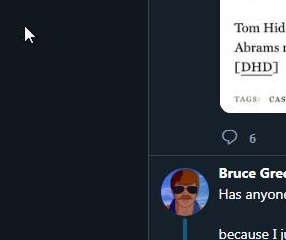cursor: (22, 24, 36, 44)
